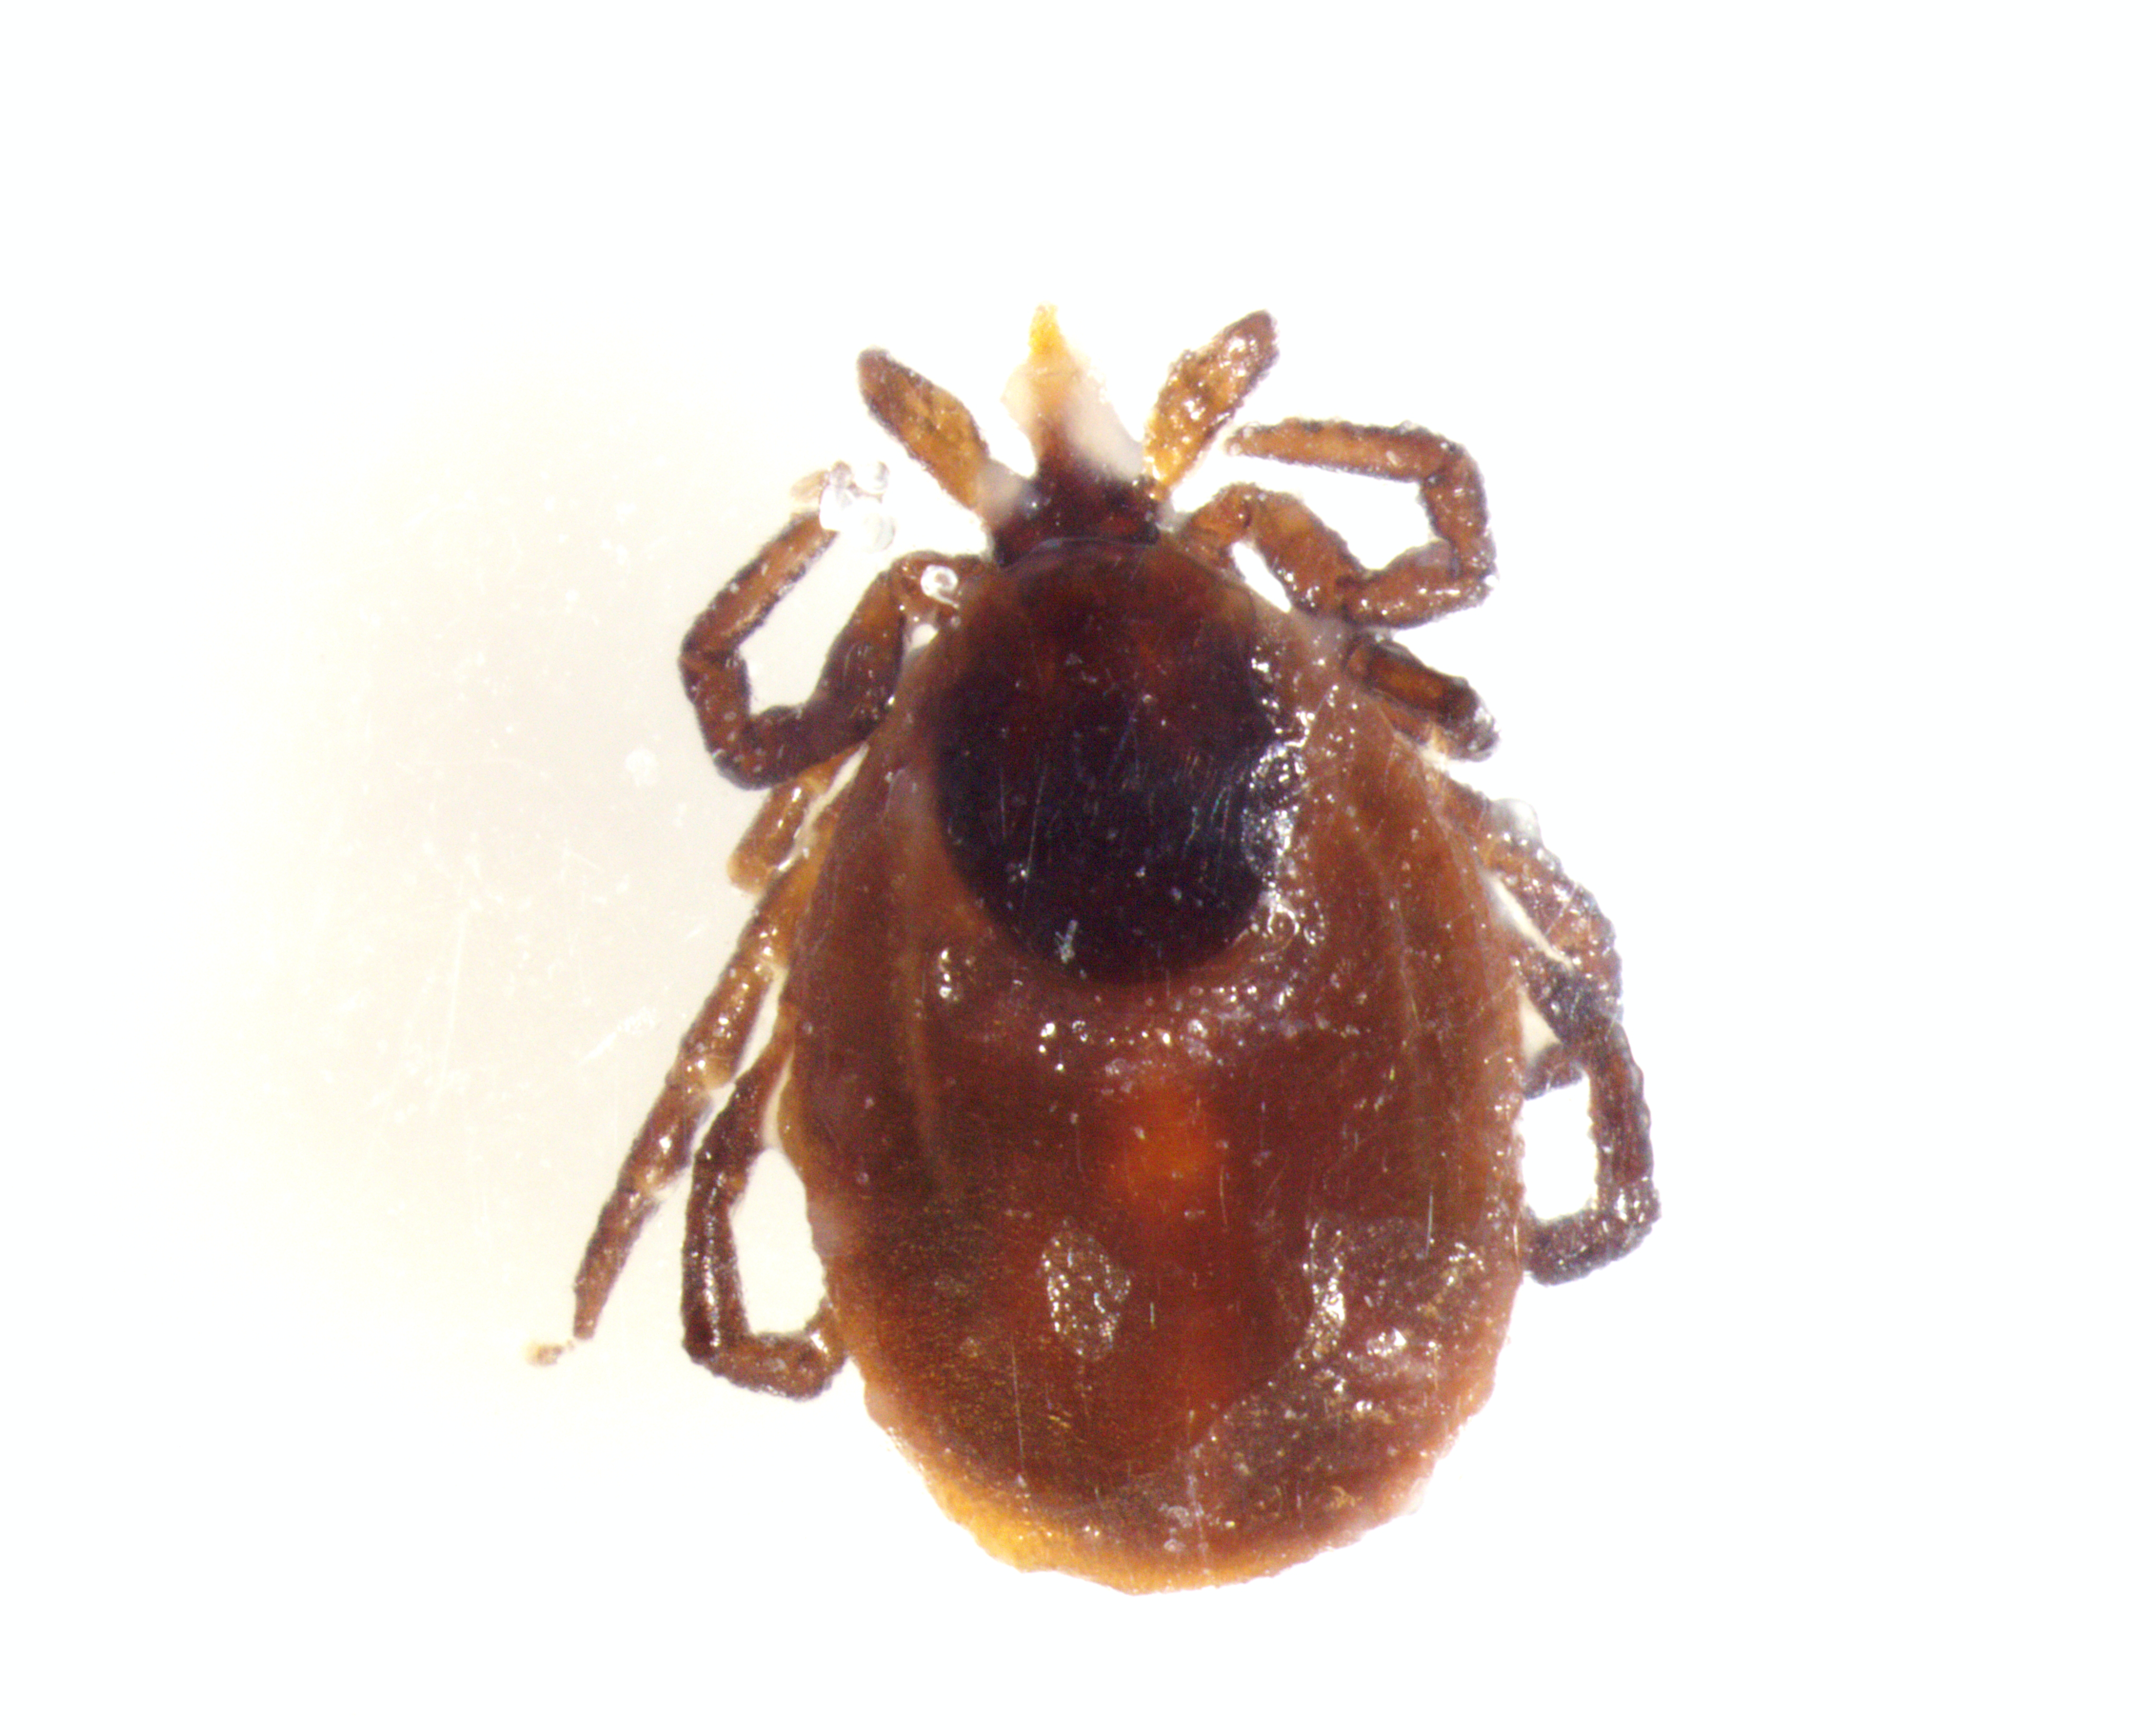unlabelled_tick: (480, 289, 1681, 1635)
